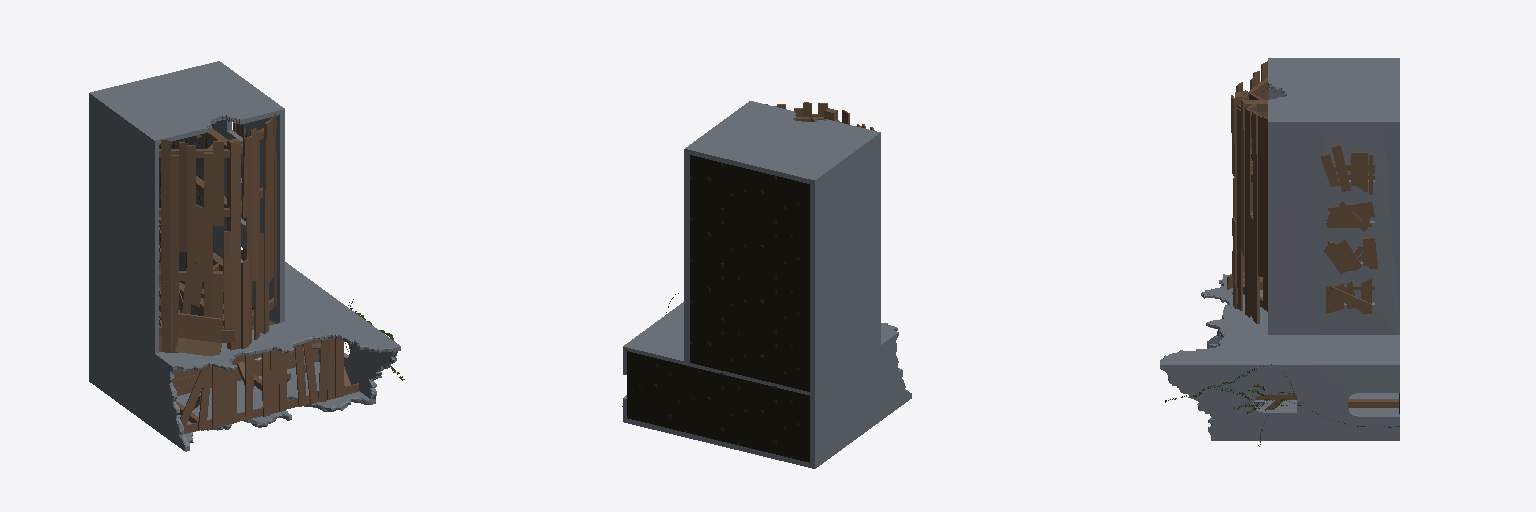
File: ruins.obj
3 renders of one model, left to right at view 1: azimuth 30°, elevation 25°; view 2: azimuth 150°, elevation 25°; view 3: azimuth 270°, elevation 25°, orthographic.
Visible parts, largest first — view 1: Wall.001, Wall, Roof.001, Roof.002, Roof, RoofSupport, Floor.001_Cube.006, LargeRoomFloor, Support.002, RoofSupport.001; view 2: Wall.001, LargeRoomFloor, Floor_Cube.114, Wall; view 3: Wall.001, Wall, Roof, WoodenPlanks.002, Roof.001, RoofSupport.
Boxes of the visible parts, x1=… form: Wall.001: x1=89, y1=61, x2=284, y2=356; Wall: x1=89, y1=262, x2=400, y2=451; Roof.001: x1=161, y1=139, x2=235, y2=355; Roof.002: x1=180, y1=338, x2=350, y2=429; Roof: x1=241, y1=113, x2=276, y2=348; RoofSupport: x1=159, y1=121, x2=276, y2=350; Floor.001_Cube.006: x1=159, y1=310, x2=318, y2=395; LargeRoomFloor: x1=159, y1=124, x2=214, y2=283; Support.002: x1=159, y1=128, x2=242, y2=325; RoofSupport.001: x1=184, y1=340, x2=358, y2=433; Wall.001: x1=684, y1=101, x2=880, y2=396; LargeRoomFloor: x1=690, y1=155, x2=809, y2=391; Floor_Cube.114: x1=627, y1=351, x2=809, y2=462; Wall: x1=623, y1=302, x2=911, y2=468; Wall.001: x1=1268, y1=58, x2=1399, y2=334; Wall: x1=1160, y1=274, x2=1399, y2=440; Roof: x1=1231, y1=95, x2=1267, y2=323; WoodenPlanks.002: x1=1320, y1=145, x2=1377, y2=313; Roof.001: x1=1227, y1=61, x2=1268, y2=293; RoofSupport: x1=1235, y1=78, x2=1267, y2=311.
Bounding box in the file's own units: 11.17 × 14.5 × 10.86.